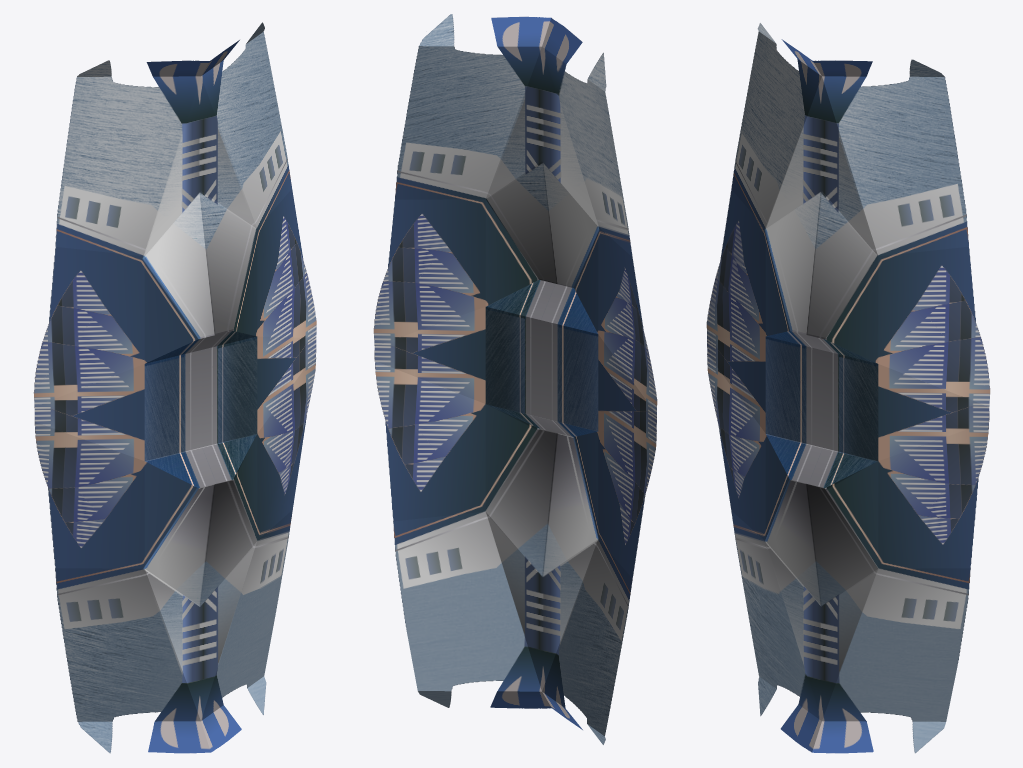
File: shieldb.obj
The picture shows the model from 3 angles, left to right: view 1: azimuth 30°, elevation 25°; view 2: azimuth 150°, elevation 25°; view 3: azimuth 330°, elevation 25°; orthographic projection.
Parts seen in each view (by area): view 1: shield_b; view 2: shield_b; view 3: shield_b.
Boxes of the visible parts, x1,y1,x2,y2 form: shield_b: (33, 22, 316, 753); shield_b: (373, 14, 657, 744); shield_b: (706, 23, 990, 753).
Size of the model in its own units: 265 by 563 by 66.36.
Materials: 1 (1 with a texture image).
